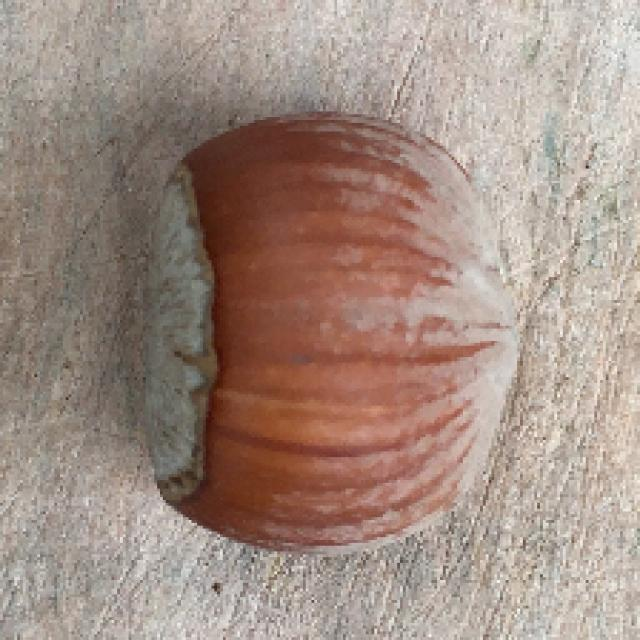qualityHazelnut: (134, 112, 524, 559)
